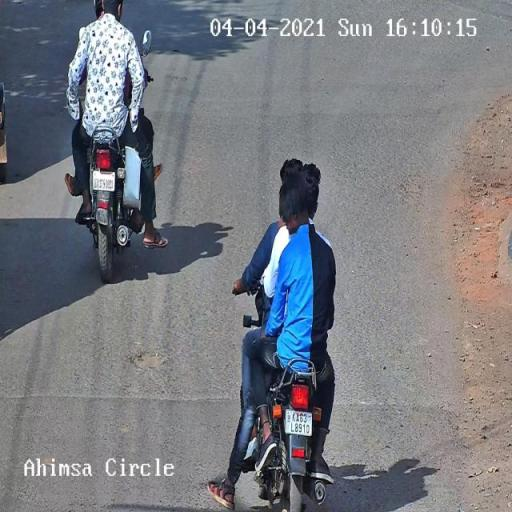tripple riding: (232, 151, 343, 361)
